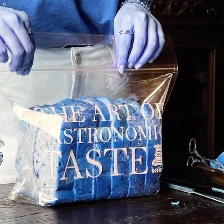snack: (0, 21, 184, 212)
